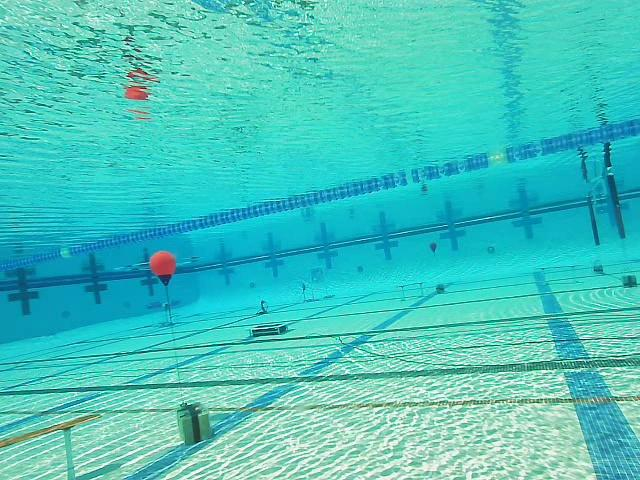buoy: (149, 251, 176, 286)
